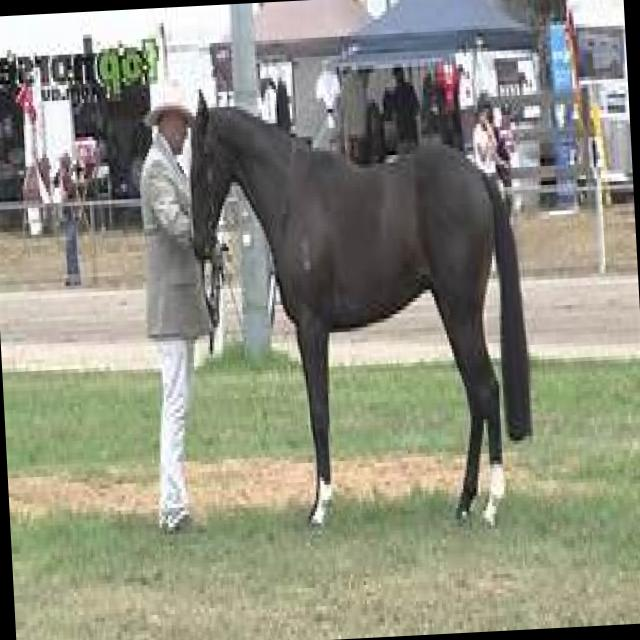horse: (186, 73, 538, 544)
